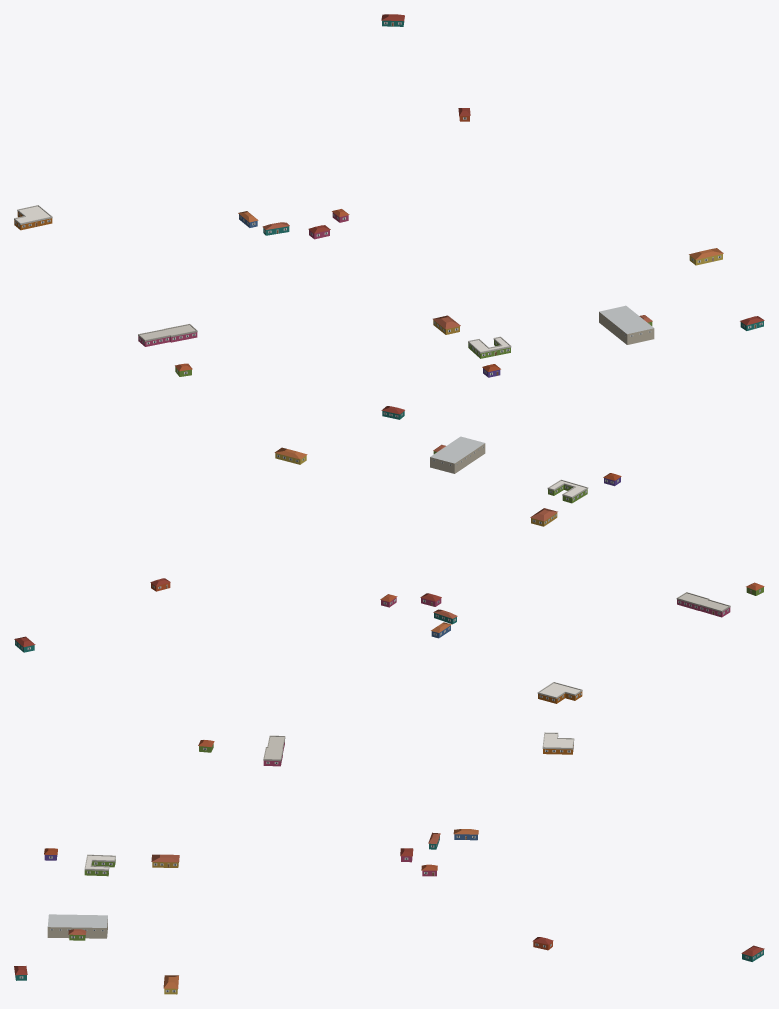
File: msb_sannicolas_16_20.glb
3 views of the same model, one above another, from view 1: azimuth 30°, elevation 25°; view 2: azimuth 150°, elevation 25°; view 3: azimuth 270°, elevation 25° (orthographic). The views are drawn at different scales.
Visible parts, largest first — view 1: msb_sannicolas_16_20_lod0; view 2: msb_sannicolas_16_20_lod0; view 3: msb_sannicolas_16_20_lod0.
Part boxes in pixels (box(x1,y1,x2,y2)): msb_sannicolas_16_20_lod0: box(14, 14, 764, 377); msb_sannicolas_16_20_lod0: box(14, 406, 764, 703); msb_sannicolas_16_20_lod0: box(14, 732, 764, 994).
Size of what is drawn, in the model's own units: 317 by 21.13 by 399.
3 materials, 1 textured.
